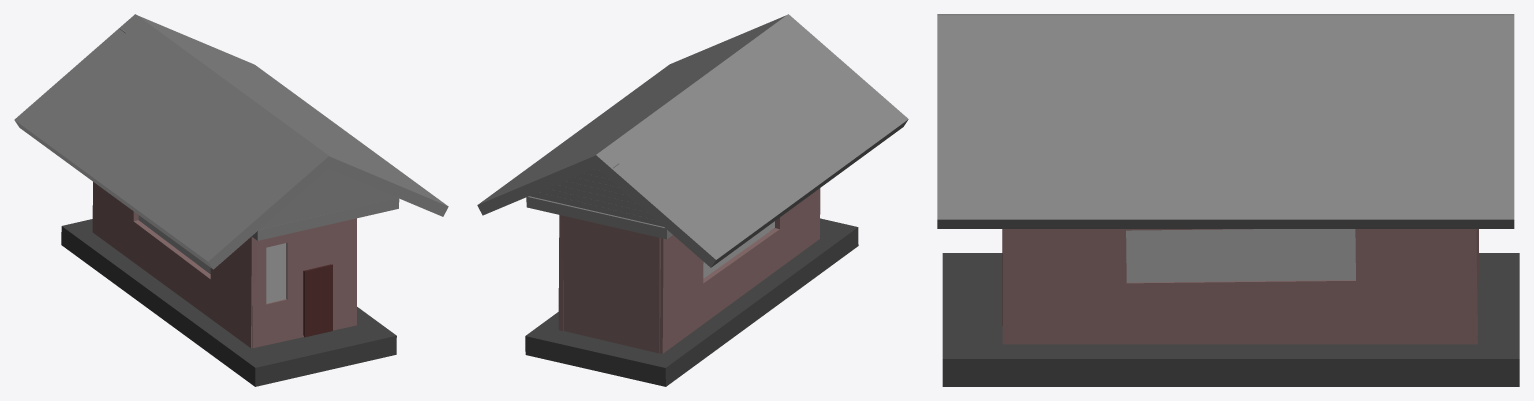
File: Hut look house.fbx
The picture shows the model from 3 angles, left to right: view 1: azimuth 30°, elevation 25°; view 2: azimuth 150°, elevation 25°; view 3: azimuth 270°, elevation 25°; orthographic projection. The views are drawn at different scales.
Parts seen in each view (by area): view 1: pCube125; view 2: pCube125; view 3: pCube125.
Boxes of the visible parts, left/top/right/bottom form: pCube125: left=14, top=14, right=448, bottom=386; pCube125: left=477, top=14, right=908, bottom=386; pCube125: left=937, top=14, right=1519, bottom=386.
Size of the model in its own units: 13.78 by 11.87 by 19.4.
